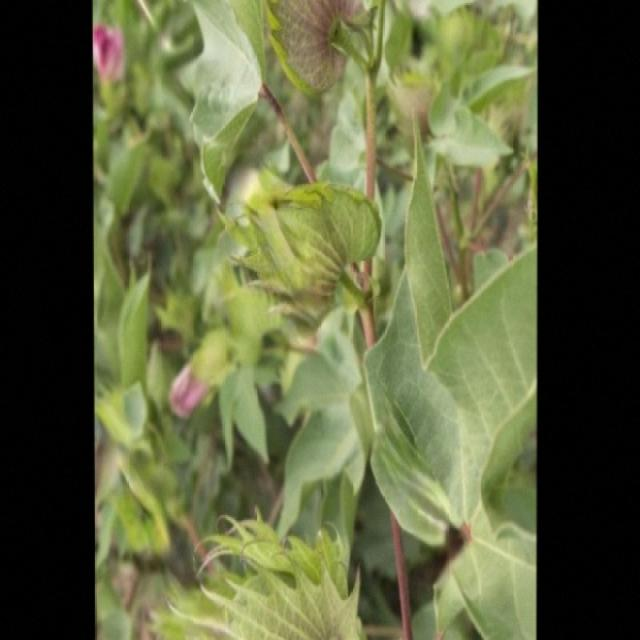Cotton Blossom: (166, 319, 238, 405), (96, 22, 144, 98)
Cotton Bud: (171, 505, 374, 640), (227, 156, 379, 324), (263, 0, 384, 96)
